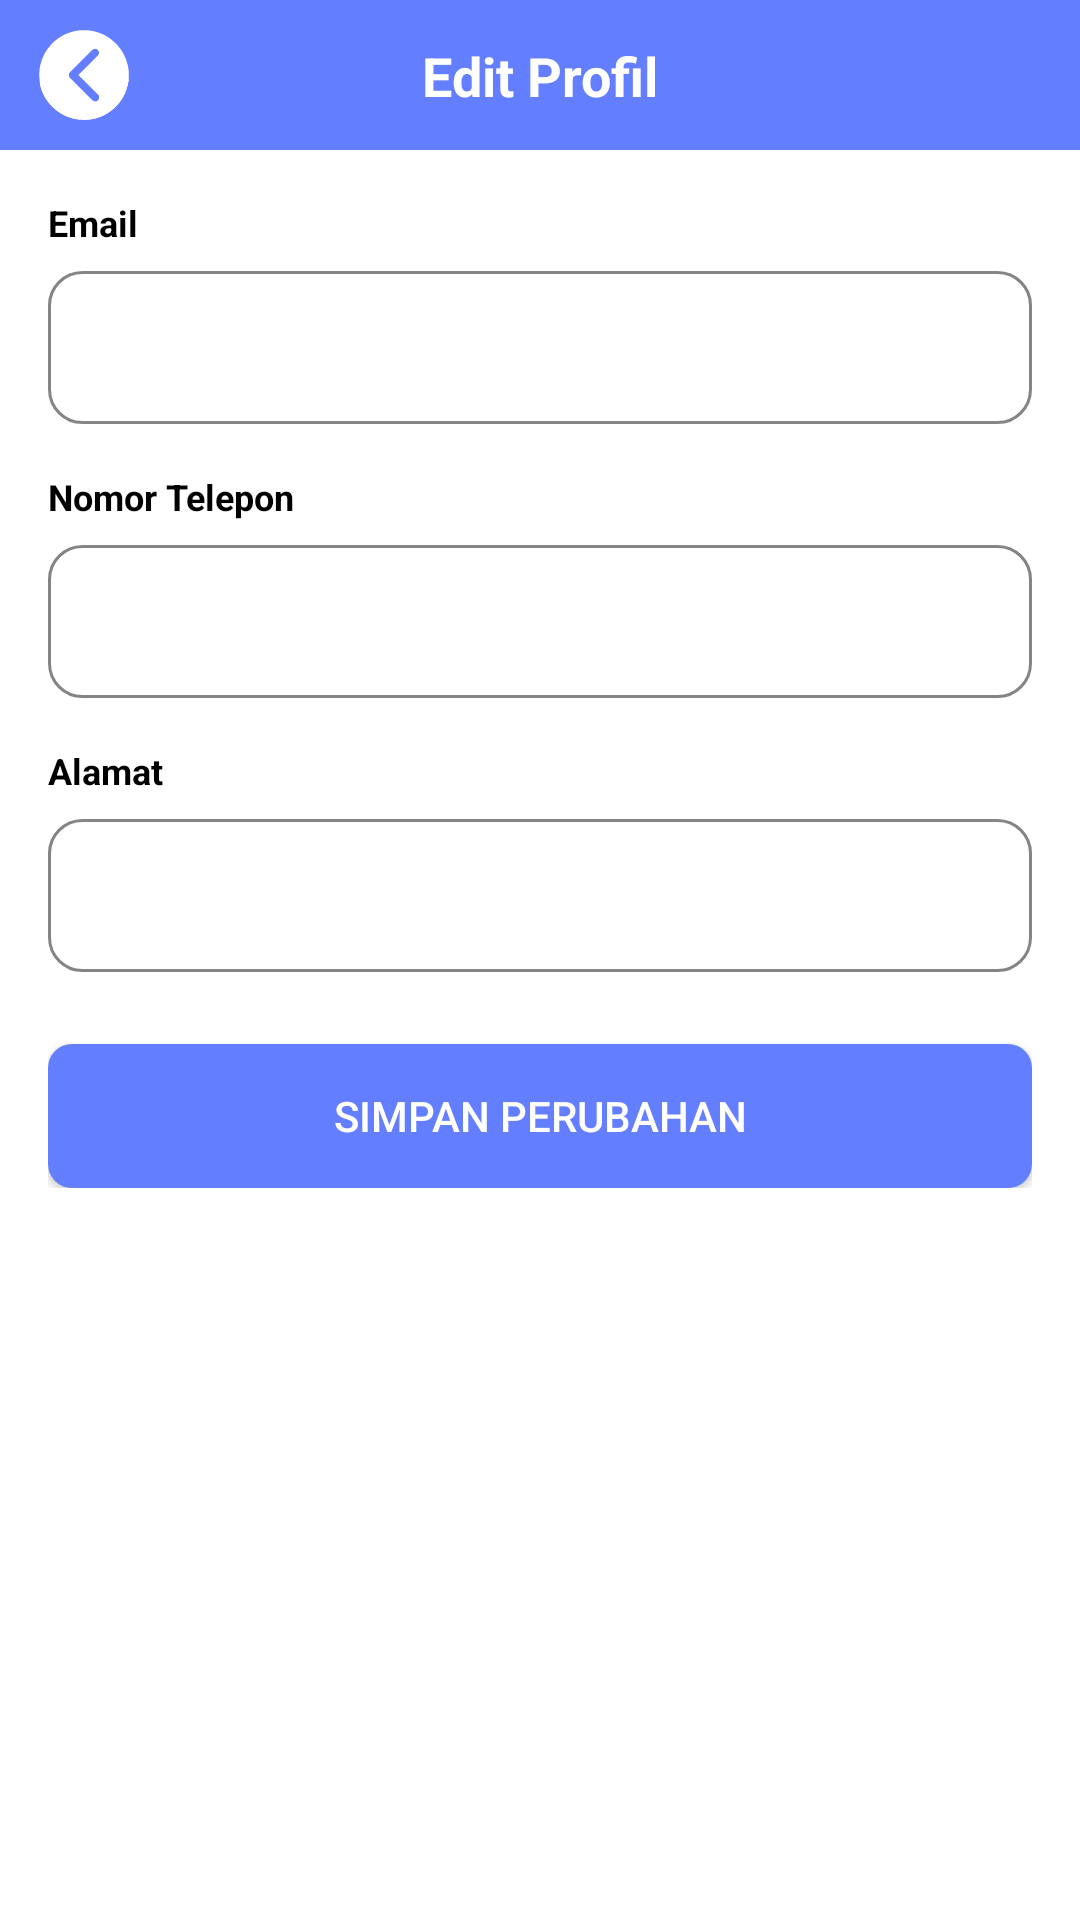

Icon bounding boxes for this 1080×1920 phone screenshot, format BBox(x1, y1, x2, y2):
Kembali: BBox(39, 30, 129, 120)
